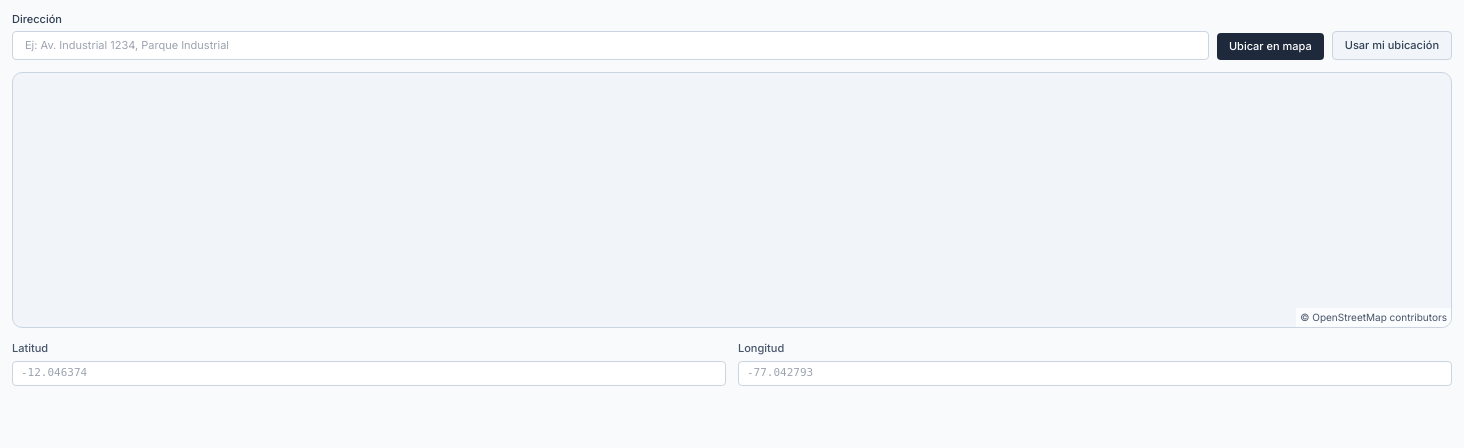
Scenario: F005.4 · Geolocalización de Sedes — Full E2E & Component Test Suite › Tier 2: Boundary & Corner Cases › T2-GEO-02: Geolocation position unavailable (code 2) shows friendly alert
This screenshot has width=1464, height=448.
Click the button "Usar mi ubicación".
click(1392, 45)  # box [1332,31,1452,60]
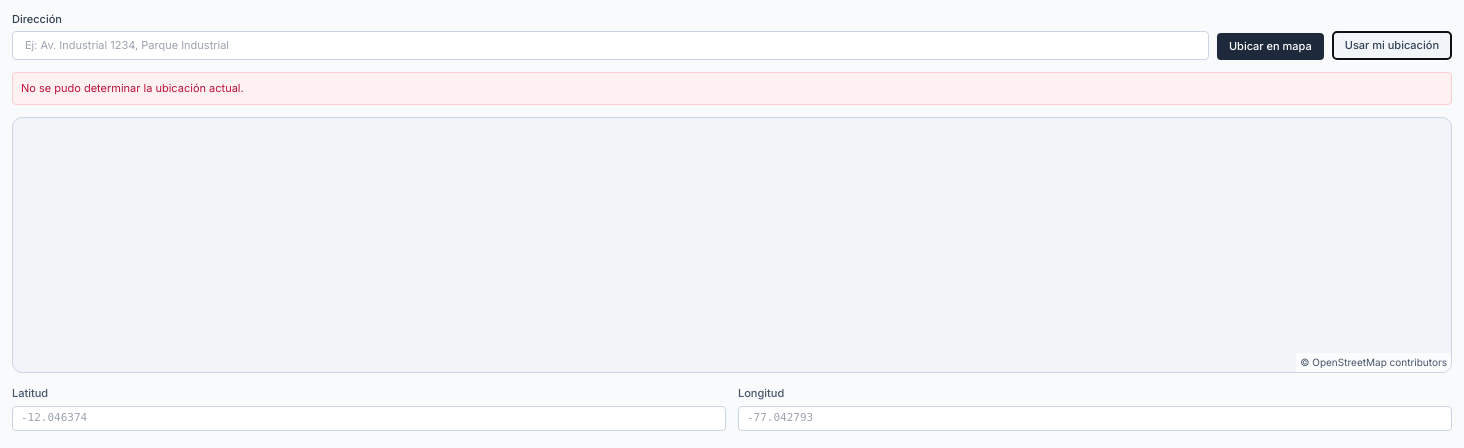
Now the message shows "No se pudo determinar la ubicación actual", box [21,81,244,95]
